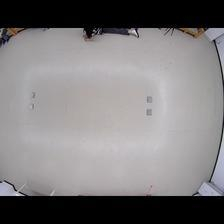fall: (82, 26, 139, 40)
